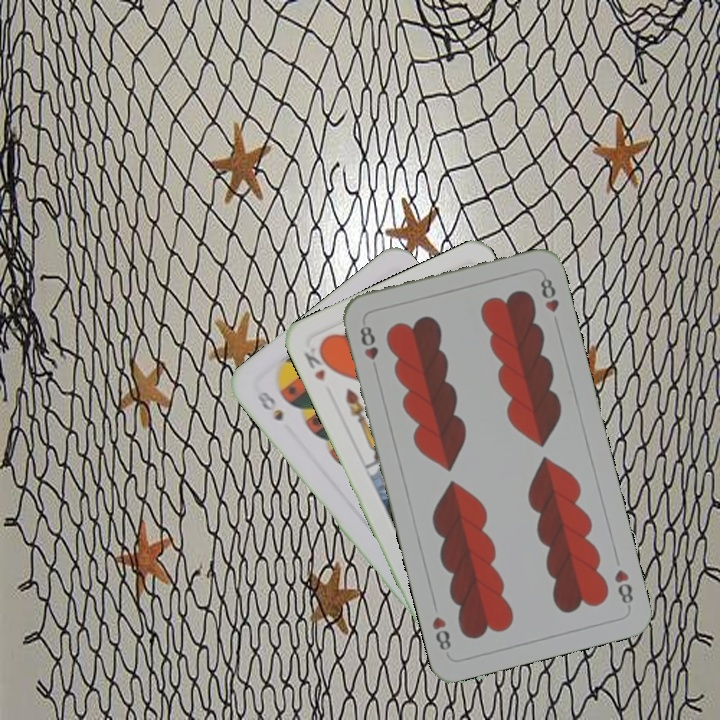H8: (610, 565, 636, 611), (356, 322, 381, 363)
HK: (300, 341, 335, 384)
S8: (252, 387, 286, 424)
